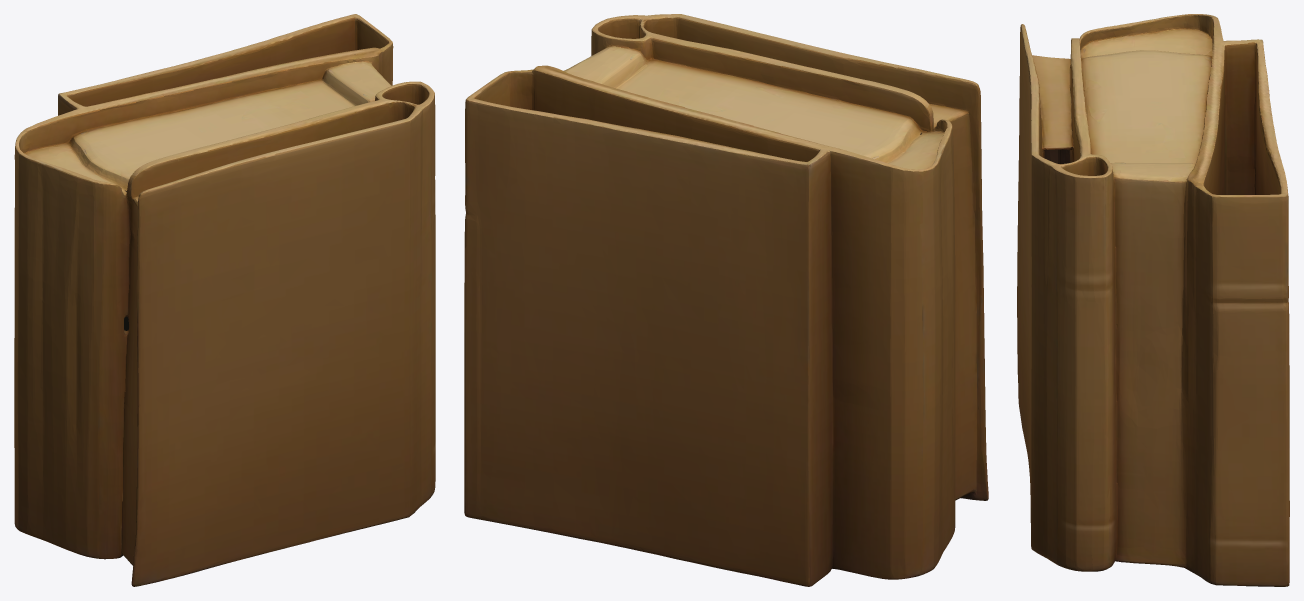
Rendered from item_books.glb.
3 renders of one model, left to right at view 1: azimuth 30°, elevation 25°; view 2: azimuth 150°, elevation 25°; view 3: azimuth 270°, elevation 25°, orthographic. The views are drawn at different scales.
Parts seen in each view (by area): view 1: geometry_0; view 2: geometry_0; view 3: geometry_0.
Boxes of the visible parts, bbox=[...] form: geometry_0: bbox=[14, 14, 435, 586]; geometry_0: bbox=[464, 14, 988, 586]; geometry_0: bbox=[1017, 14, 1289, 586].
Bounding box in the file's own units: 0.9904 × 0.9643 × 0.5984.
1 material, 1 textured.
